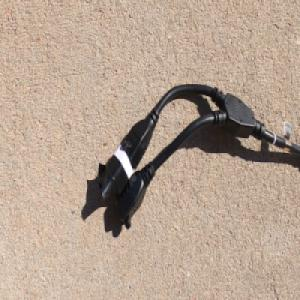Wire: (96, 80, 300, 229)
